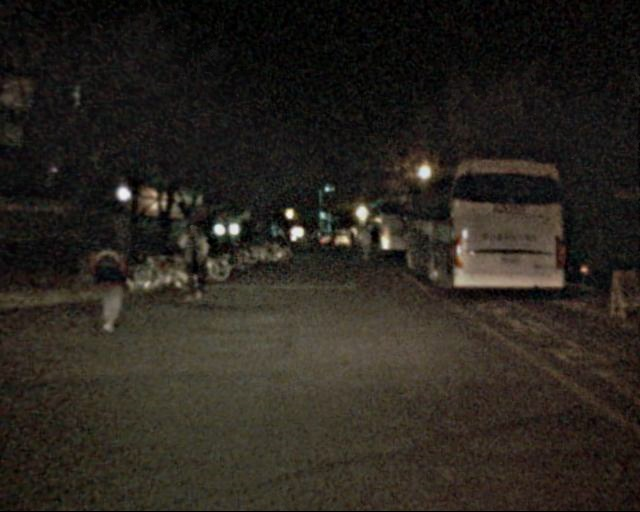person: (90, 224, 138, 334), (179, 220, 212, 301), (356, 226, 382, 269)
